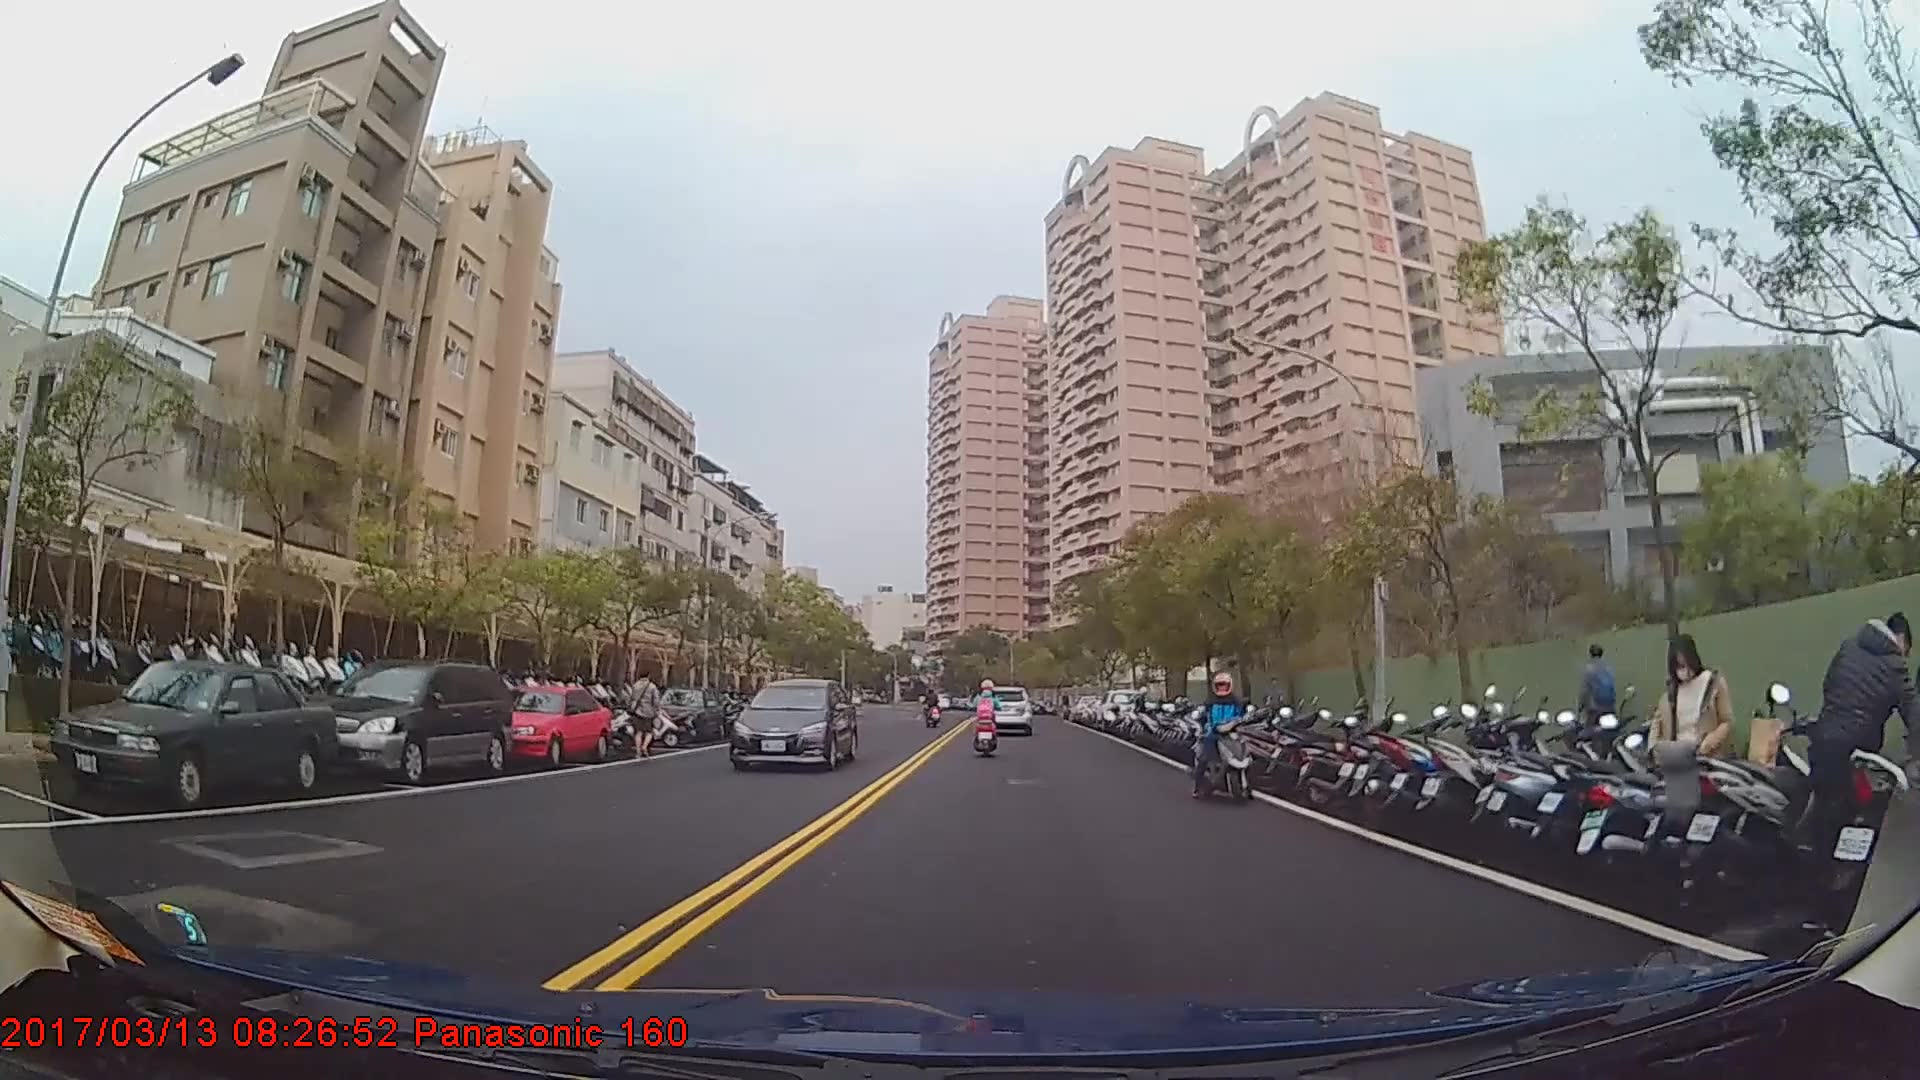pedestrian: (1806, 609, 1920, 911), (1648, 632, 1739, 891), (1576, 636, 1621, 783), (616, 666, 669, 772)
rider: (1191, 674, 1258, 807), (969, 680, 1001, 755), (922, 690, 942, 727)
vehicle: (50, 660, 332, 804), (297, 660, 514, 784), (728, 676, 856, 773), (488, 686, 612, 768), (650, 685, 724, 744), (980, 684, 1033, 738), (1092, 687, 1149, 733)
